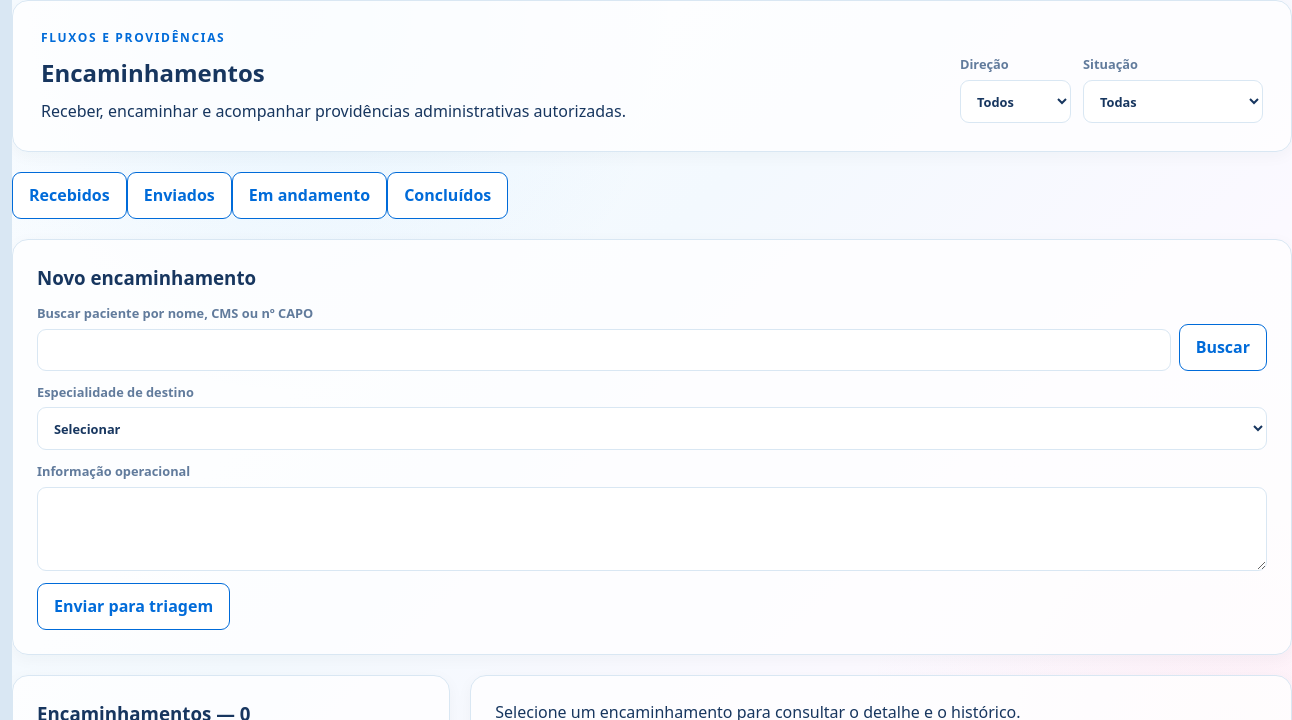
Test: ReferralsPage › busca o paciente e cria um encaminhamento pela operação injetada
The width and height of the screenshot is (1292, 720).
In the field labelled "Buscar paciente por nome, CMS ou nº CAPO": (604, 350) [37,329,1171,371], type "Paciente"
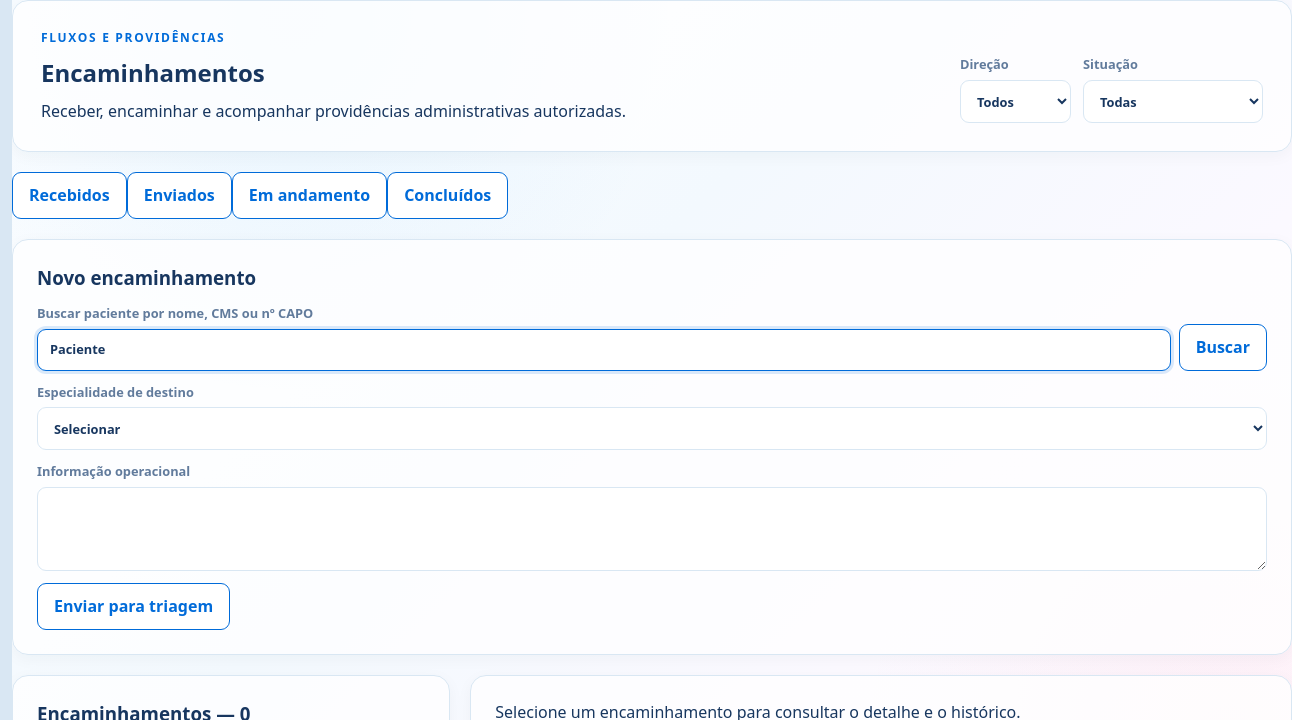
Click the button "Buscar": (1223, 347) [1179,324,1267,371]
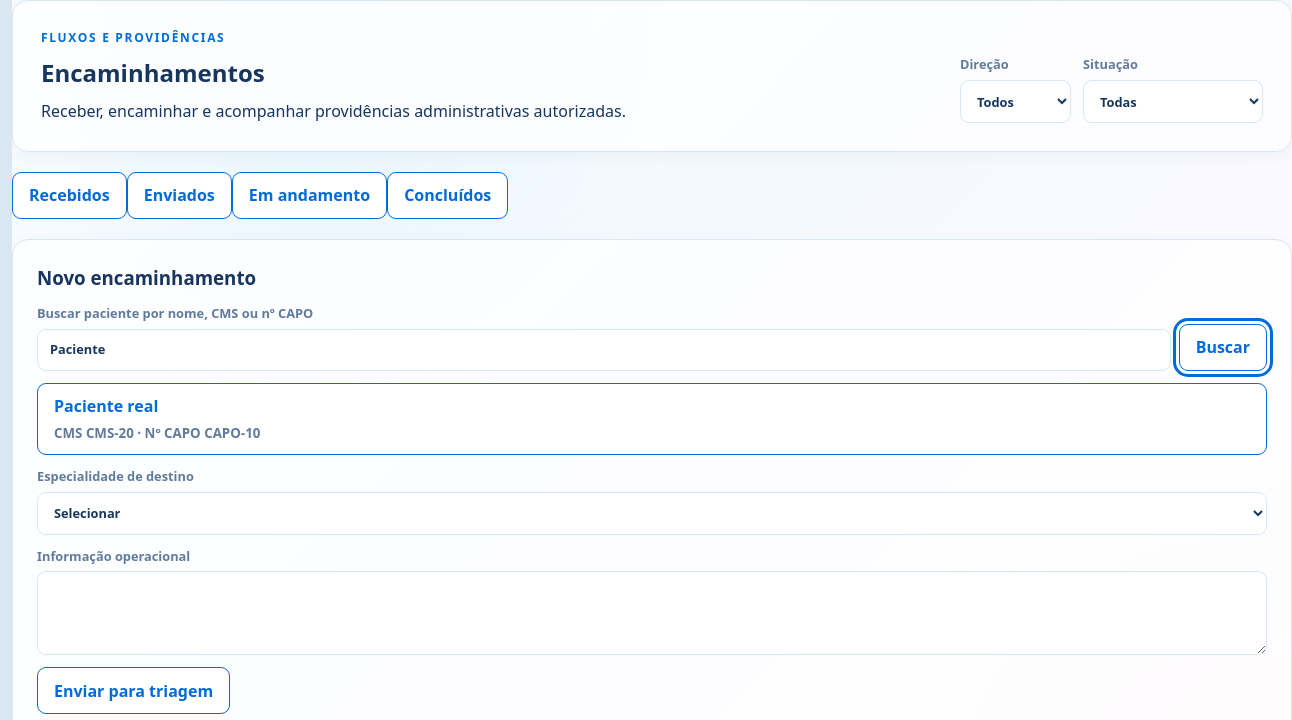
Click the button "Paciente real CMS CMS-20 · Nº CAPO CAPO-10": (106, 406) [37,383,1267,455]
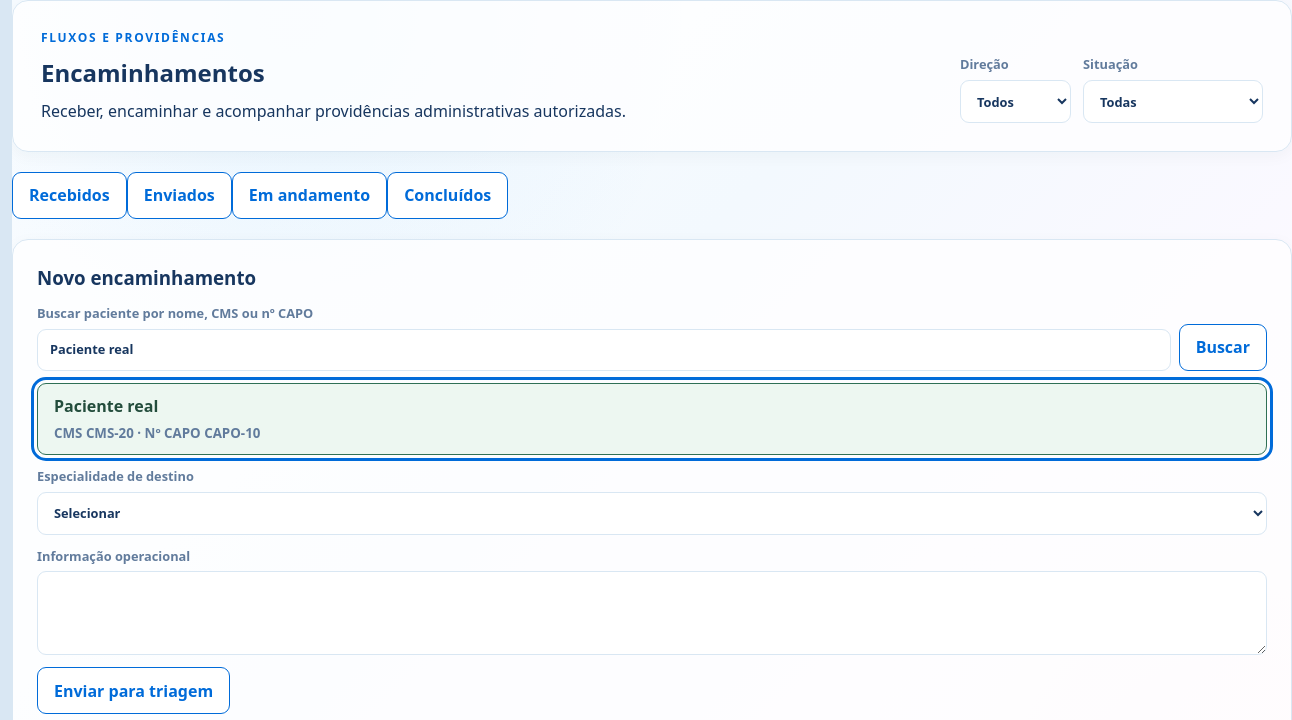
Select "Fisioterapia" in the dropdown labelled "Especialidade de destino": (652, 513) [37,492,1267,535]
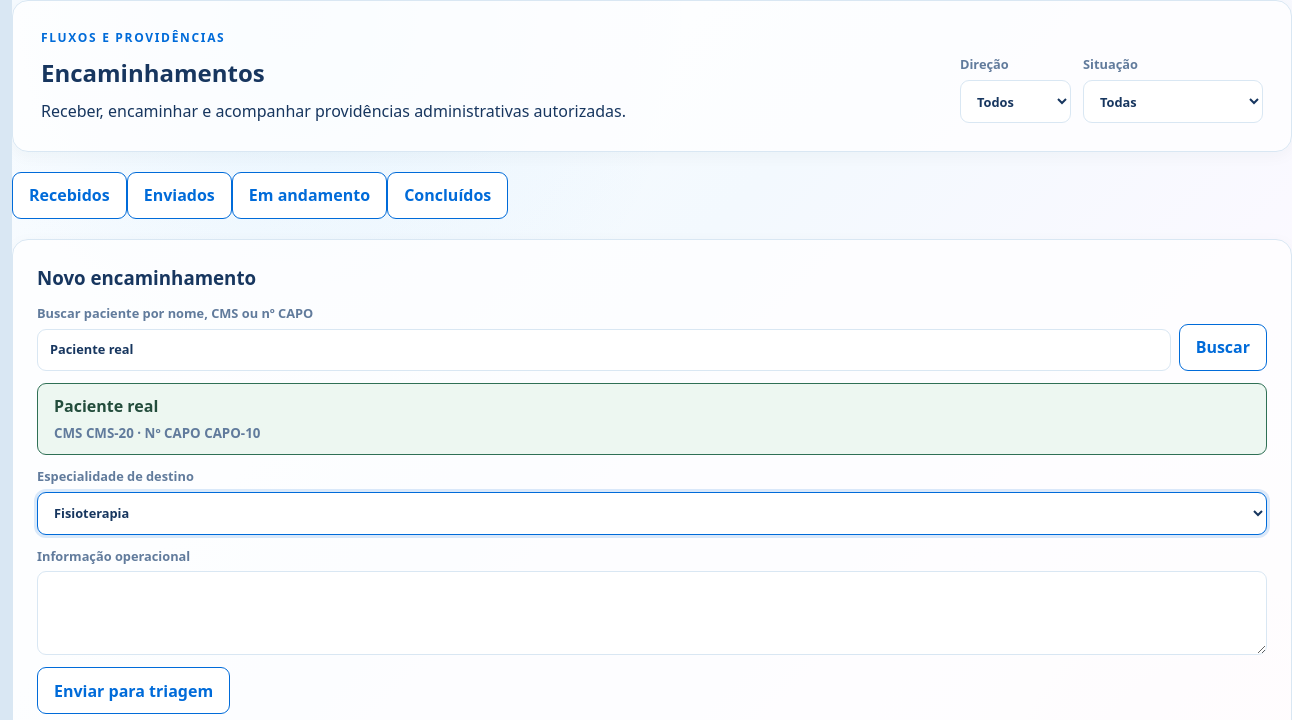
In the text box labelled "Informação operacional": (652, 613) [37,571,1267,655], type "Avaliação de mobilidade"
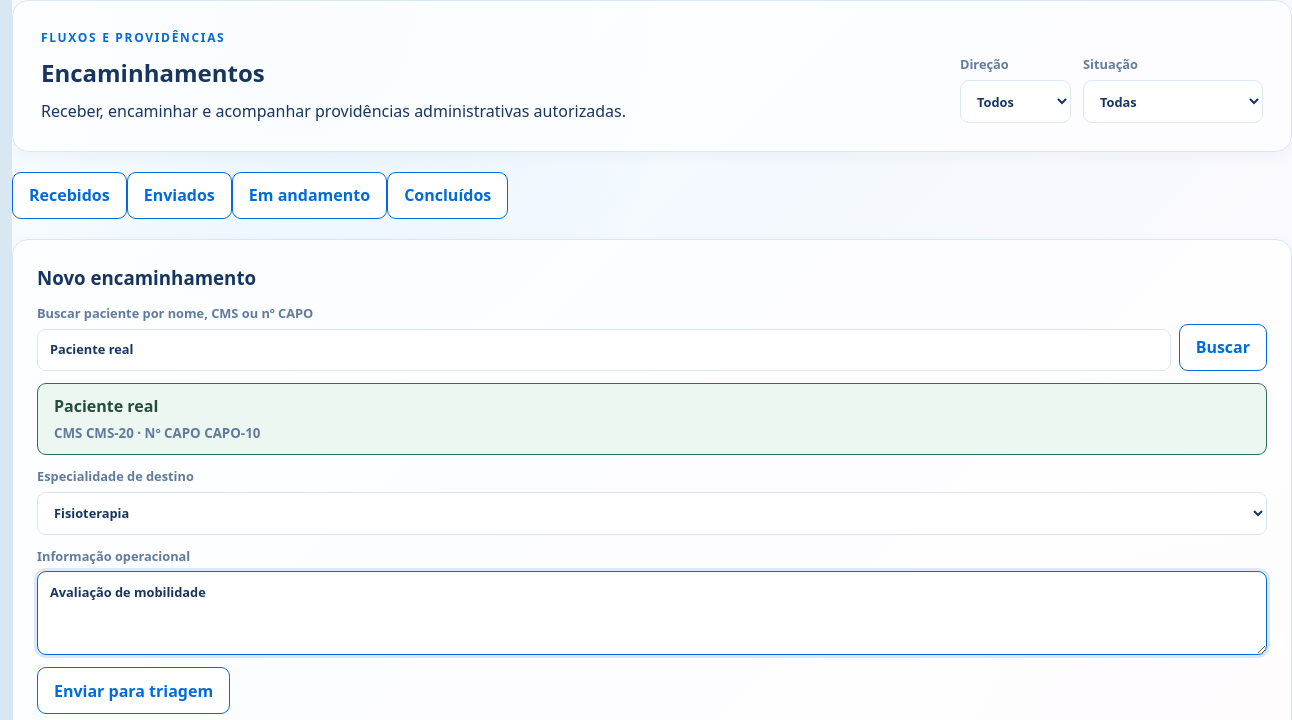
Click the button "Enviar para triagem": (134, 691) [37,667,230,714]
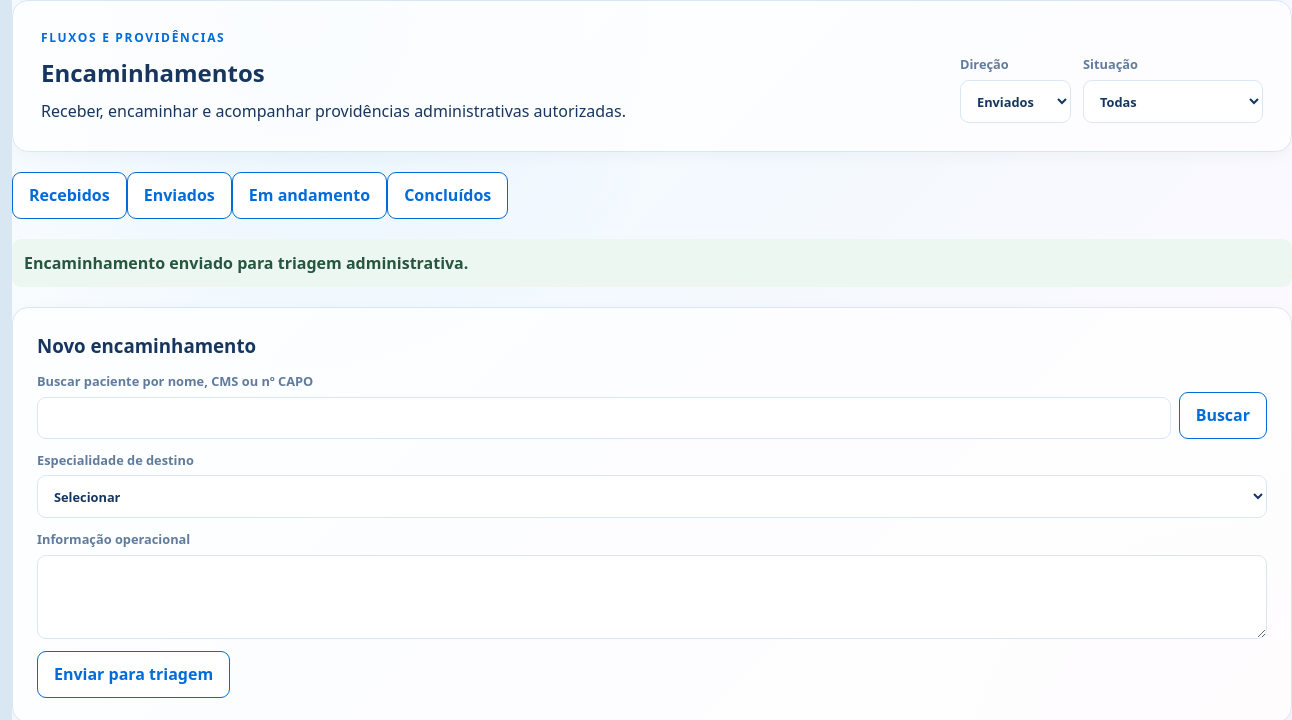
Now the text "Encaminhamento enviado para triagem administrativa." is shown, box [12,239,1291,287]
